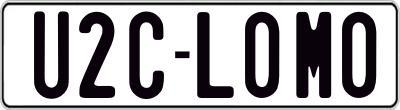0: (340, 9, 380, 100), (242, 11, 278, 102)
2: (76, 9, 116, 98)
C: (127, 11, 163, 99)
L: (195, 10, 235, 100)
M: (295, 9, 335, 100)
U: (33, 11, 71, 105)
